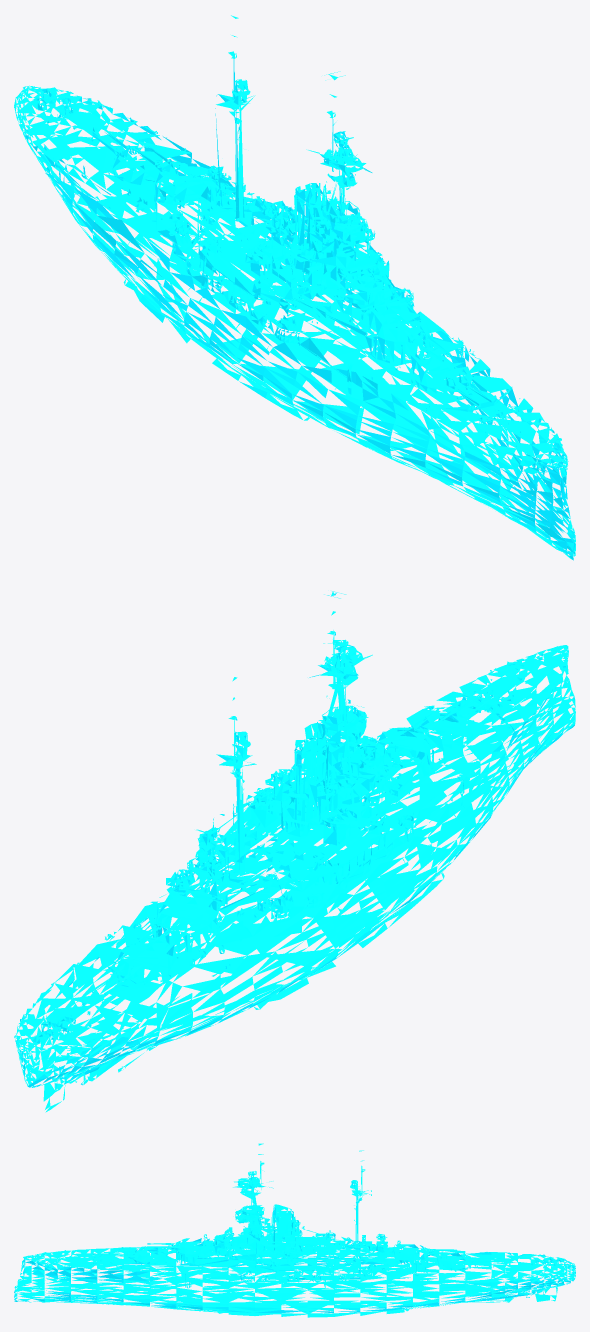
The model's file is Arkhangelsk.glb.
3 views of the same model, one above another, from view 1: azimuth 30°, elevation 25°; view 2: azimuth 150°, elevation 25°; view 3: azimuth 270°, elevation 25° (orthographic). The views are drawn at different scales.
Size of the model in its own units: 2.05 by 3.91 by 12.6.
